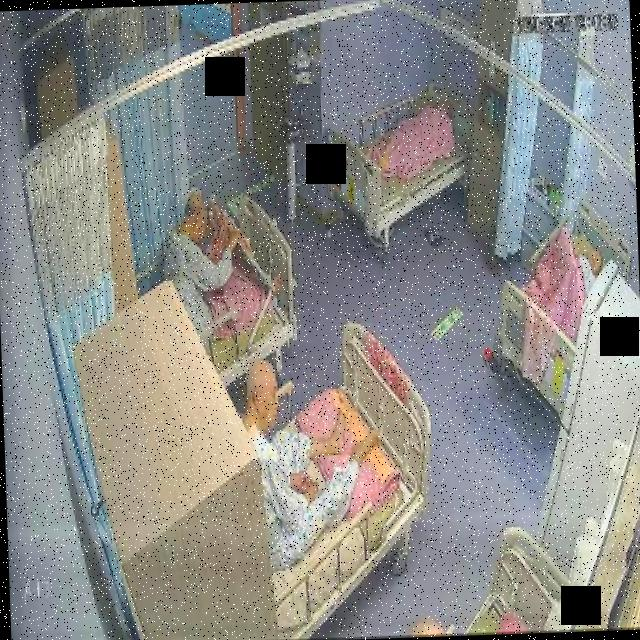bed: (232, 323, 438, 640), (490, 199, 636, 419), (157, 202, 296, 388), (328, 77, 474, 240)
patient: (242, 362, 382, 572), (158, 185, 282, 346)
sit: (242, 359, 384, 571), (158, 185, 282, 343)
